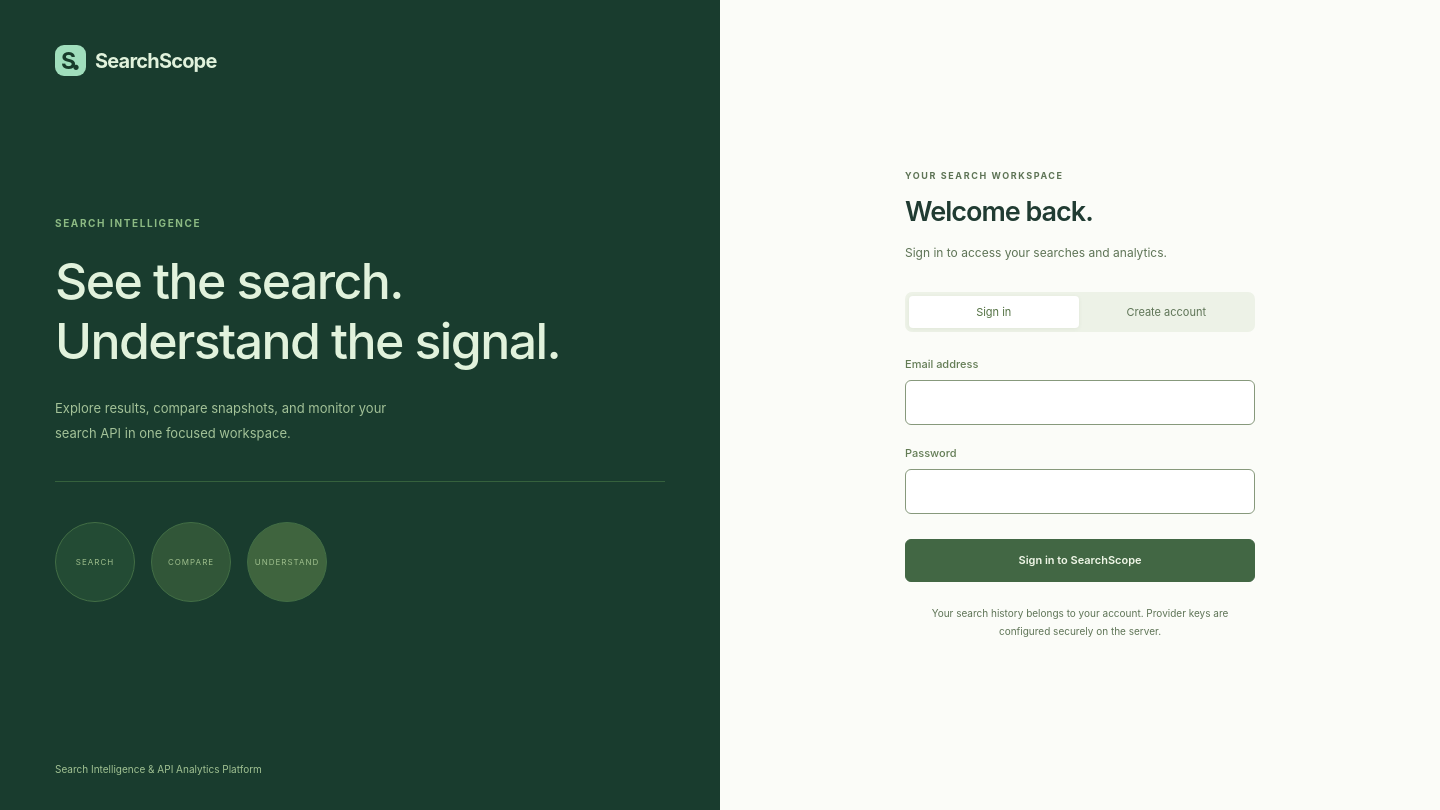
account access and navigation › checks registration password requirements before sending credentials
Click the button "Create account" at (1166, 312), box [1082,296,1251,328]
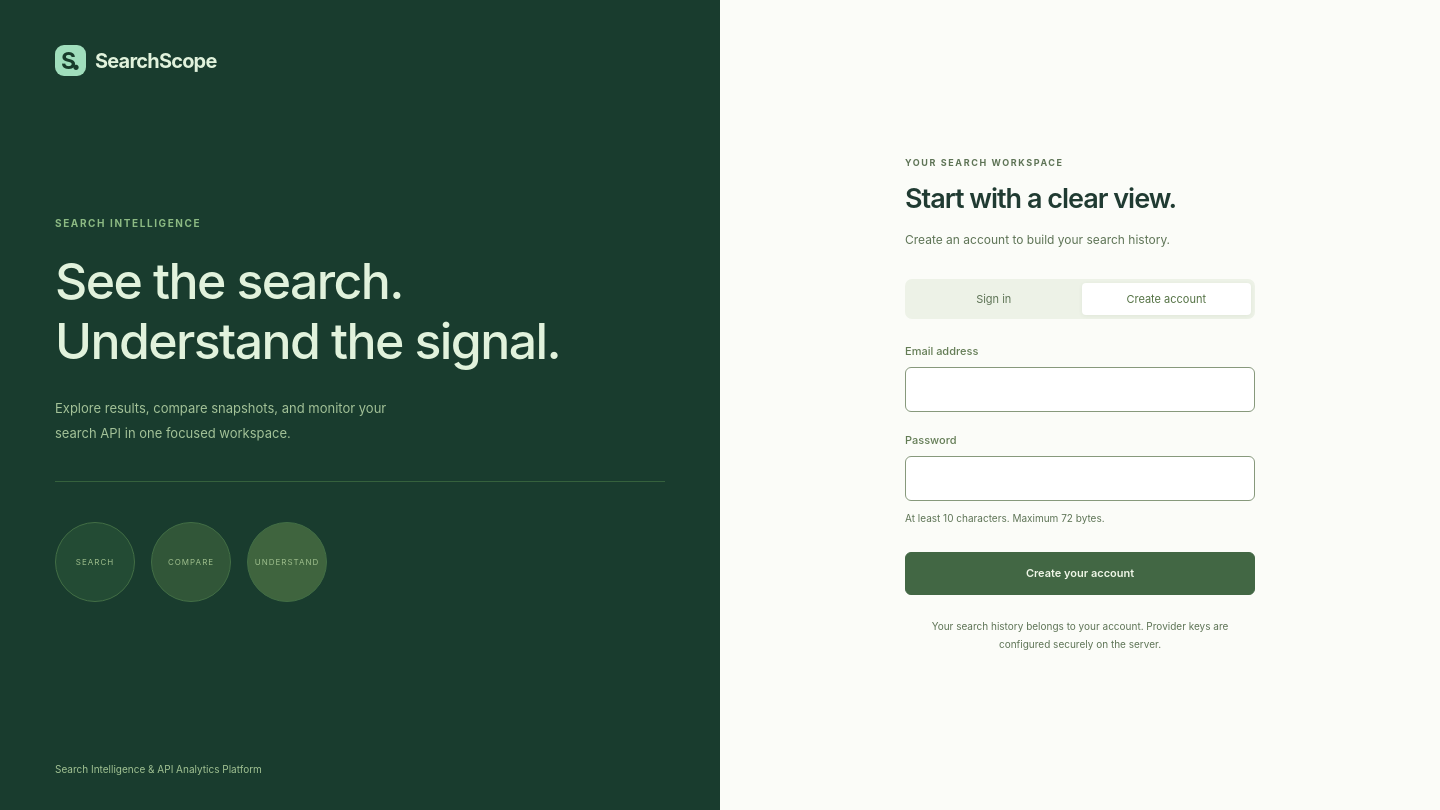
Type "researcher@example.test" into the field labelled "Email address" at (1080, 389), box [905,367,1255,412]
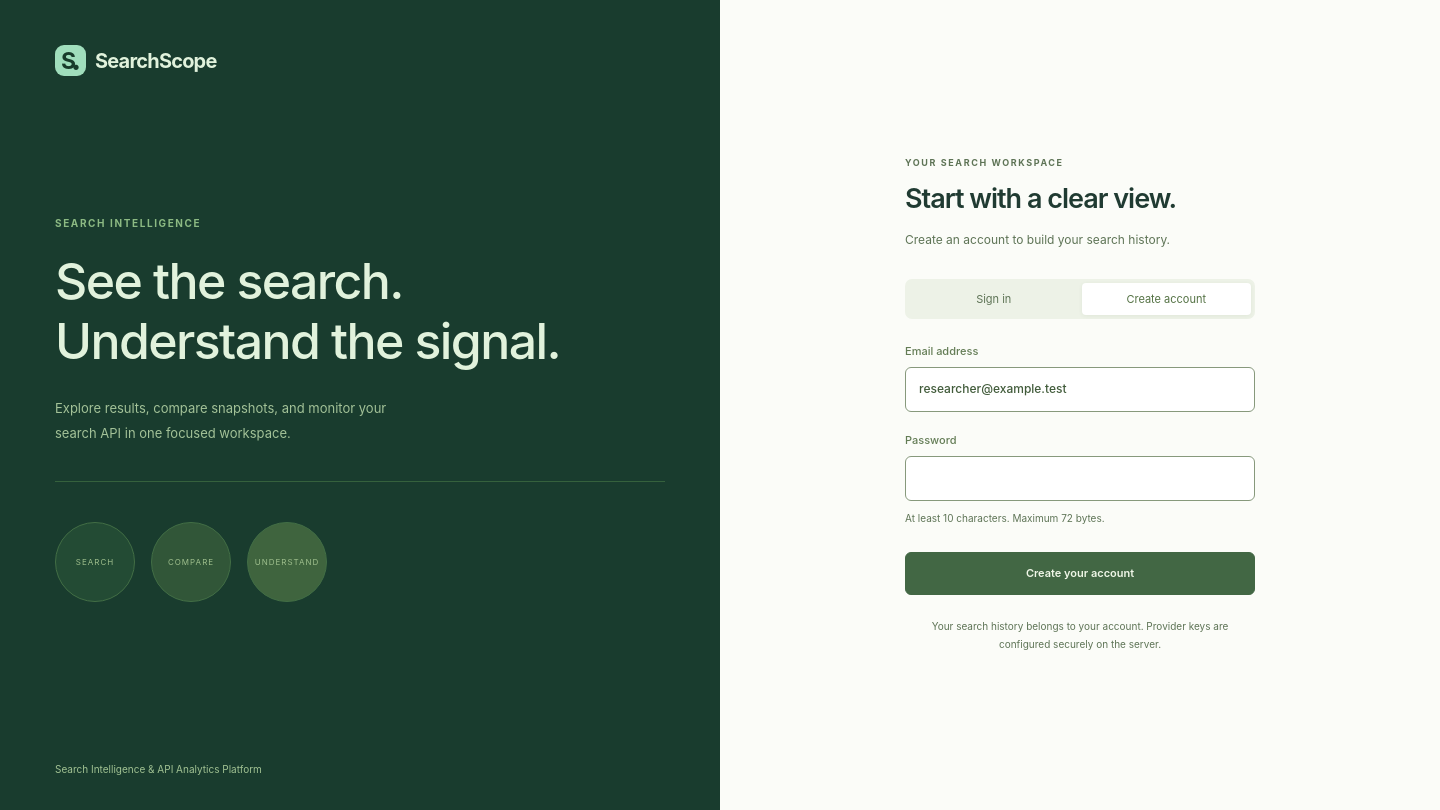
Type "short" into the password field labelled "Password" at (1080, 478), box [905,456,1255,501]
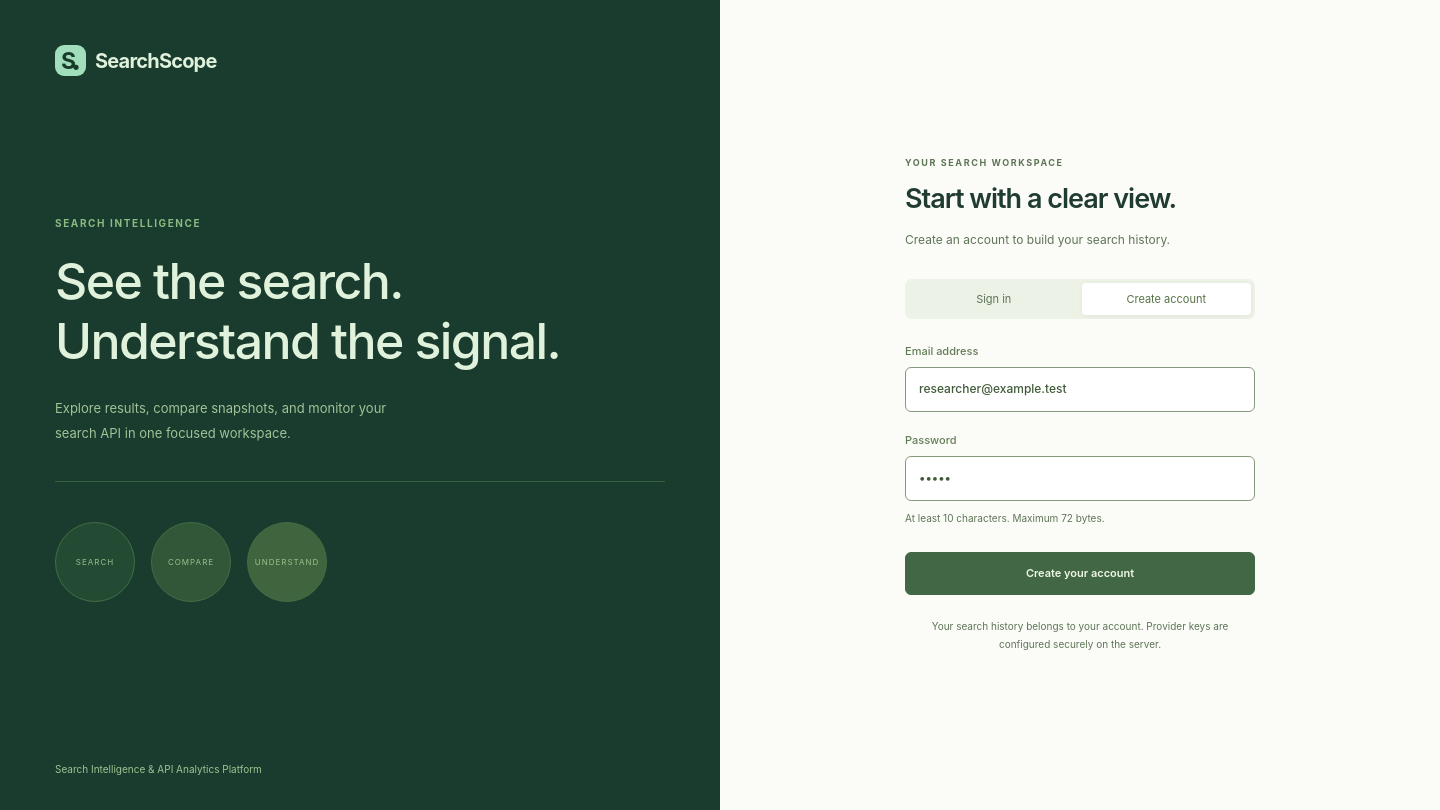
Click the button "Create your account" at (1080, 573), box [905,552,1255,595]
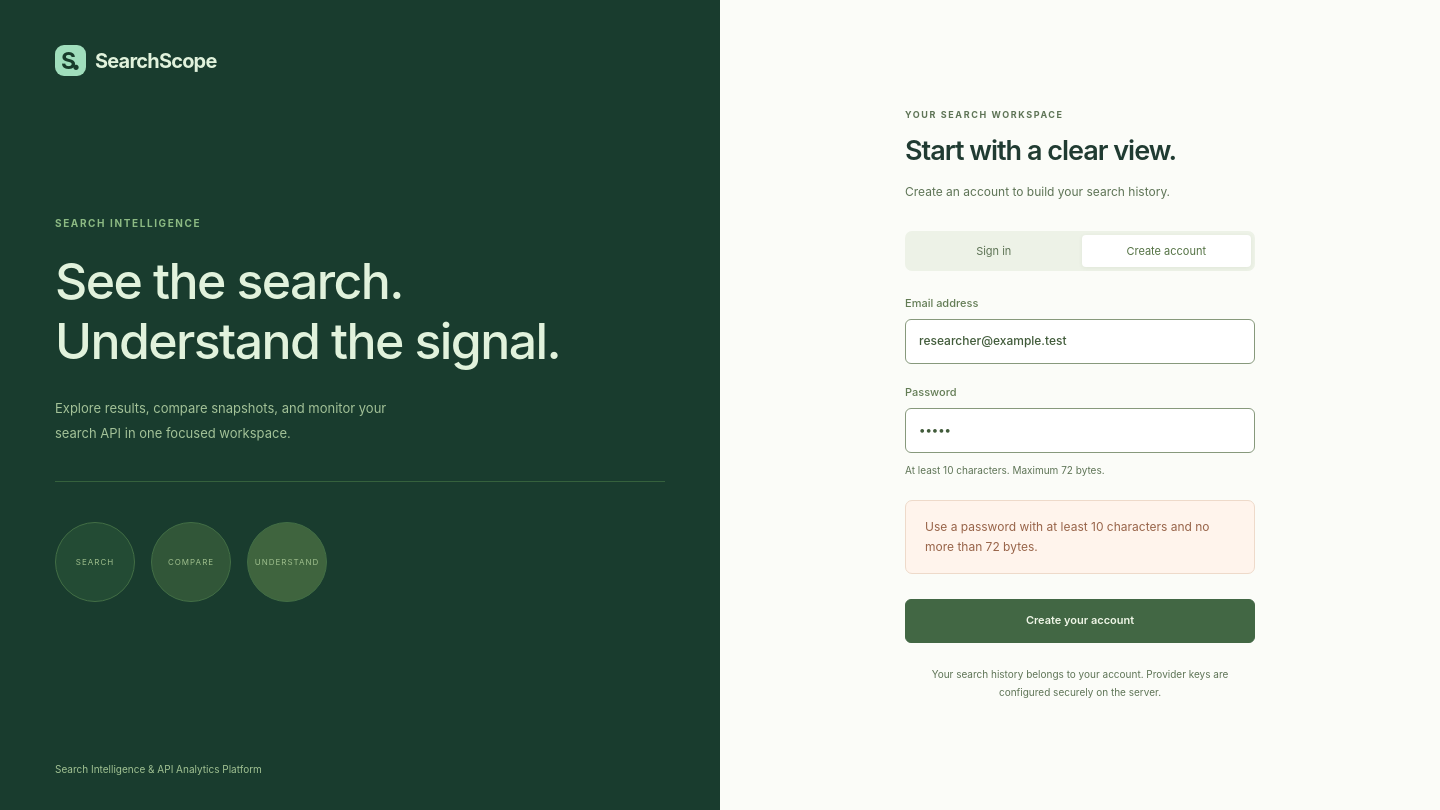
Result: the message shows "at least 10 characters" at [925,519,1210,554]
Type "safe-new-password" into the password field labelled "Password" at (1080, 430), box [905,408,1255,453]
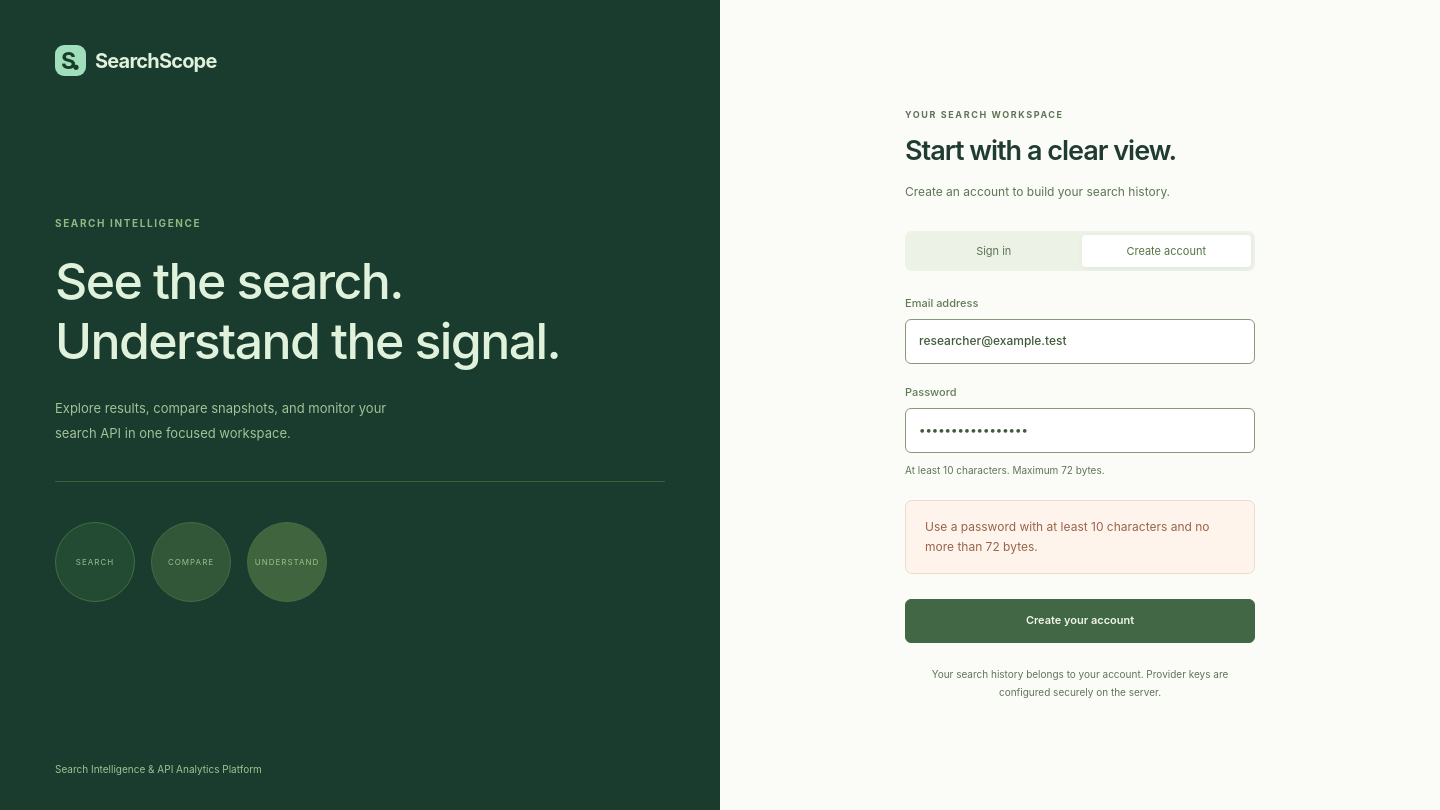
Click the button "Create your account" at (1080, 621), box [905,599,1255,643]
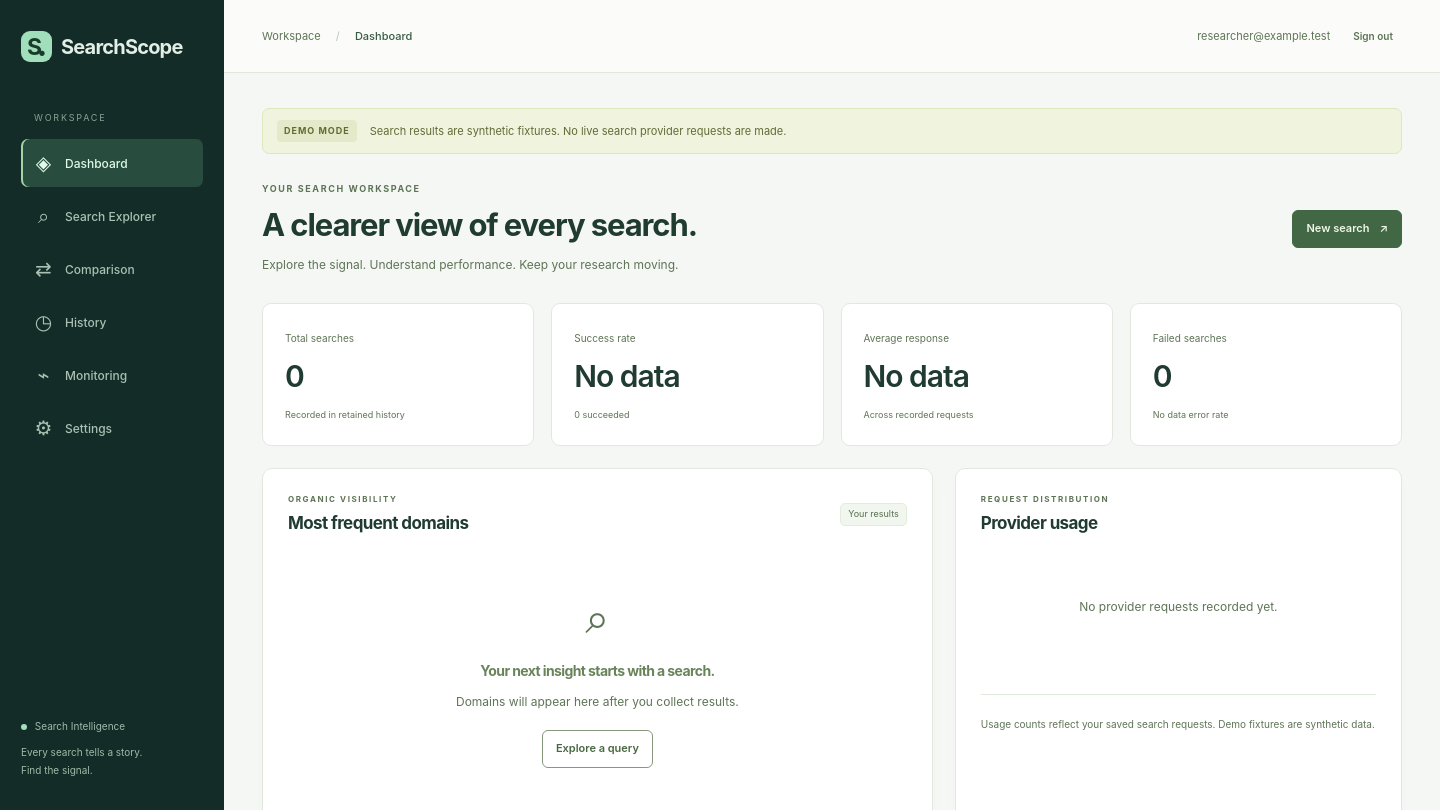
Result: the heading "A clearer view of every search." is shown at [262,204,697,245]
